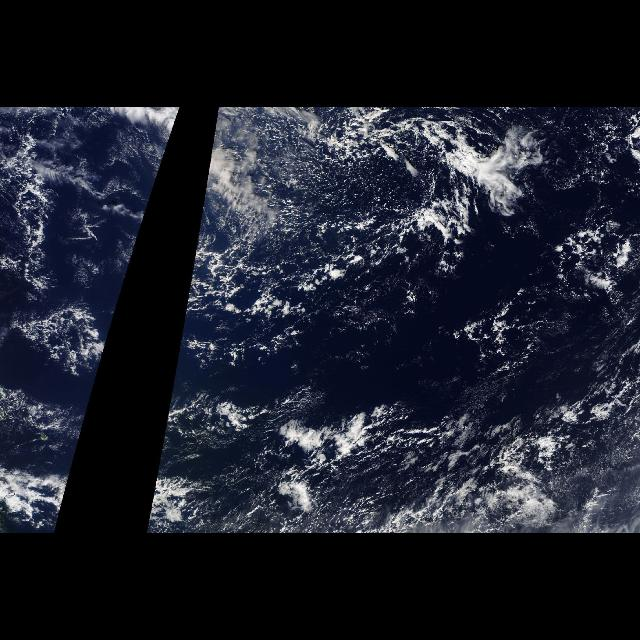Gravel: (208, 108, 506, 344)
